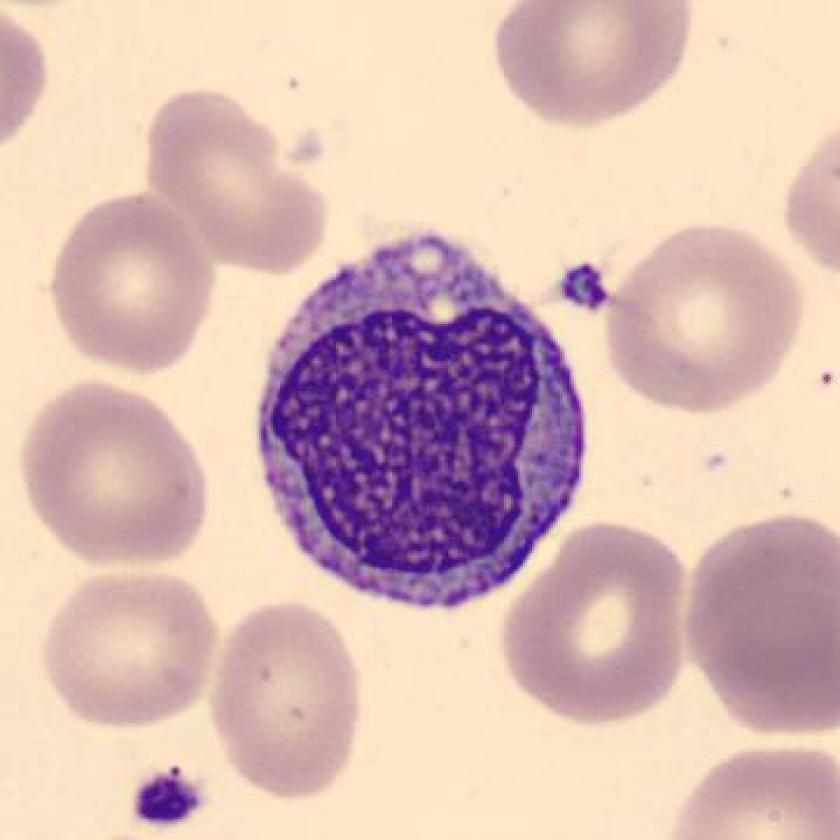monocyte: (234, 207, 603, 630)
